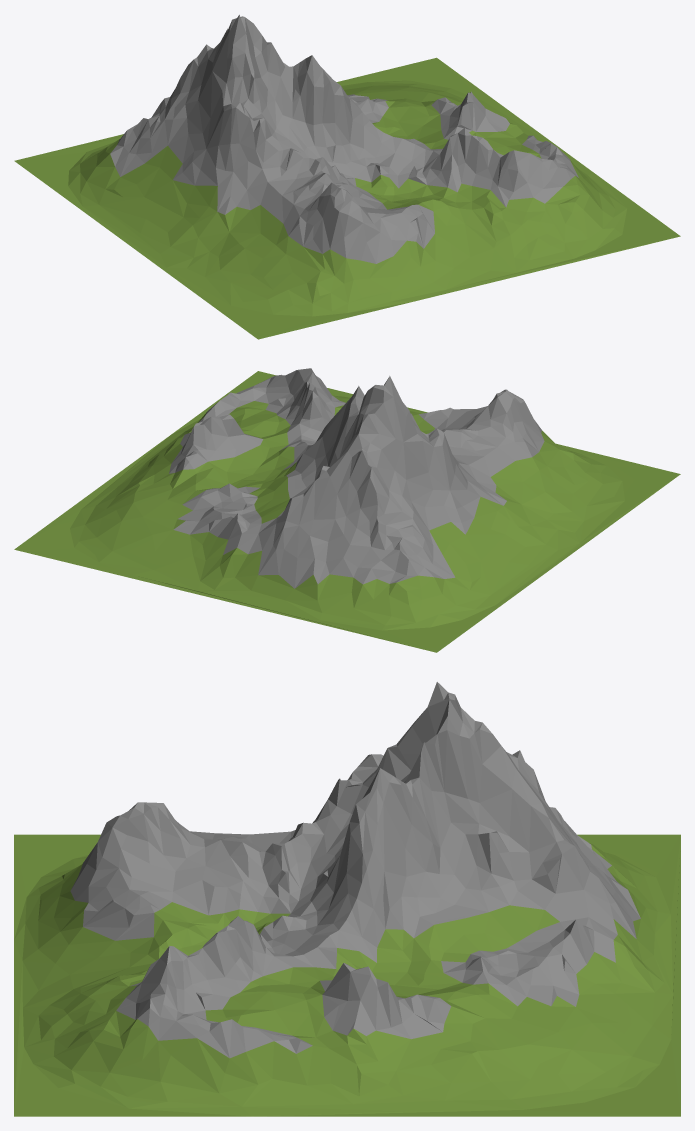
Rendered from Landscape_05.fbx.
3 renders of one model, top to bottom at view 1: azimuth 30°, elevation 25°; view 2: azimuth 150°, elevation 25°; view 3: azimuth 270°, elevation 25°, orthographic. The views are drawn at different scales.
Visible parts, largest first — view 1: Landscape_05; view 2: Landscape_05; view 3: Landscape_05.
Boxes of the visible parts, x1=… form: Landscape_05: x1=14, y1=14, x2=680, y2=339; Landscape_05: x1=14, y1=368, x2=680, y2=652; Landscape_05: x1=14, y1=682, x2=680, y2=1116.
Bounding box in the file's own units: 10000 × 4037 × 10000.
